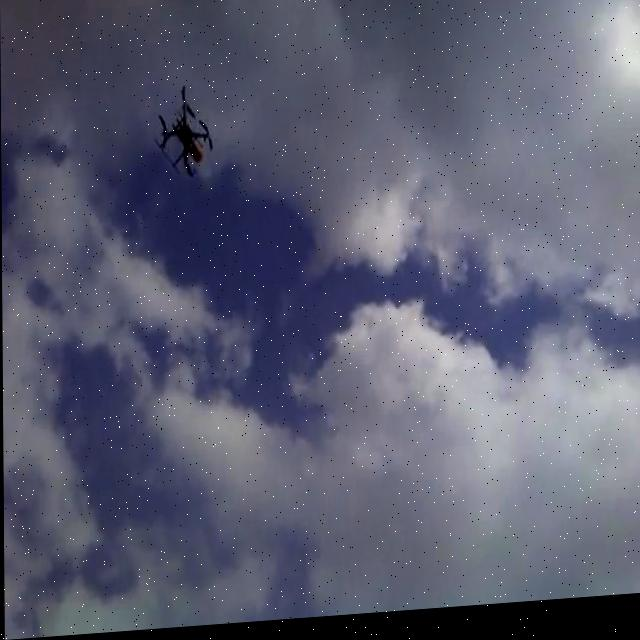drone: (154, 81, 216, 183)
